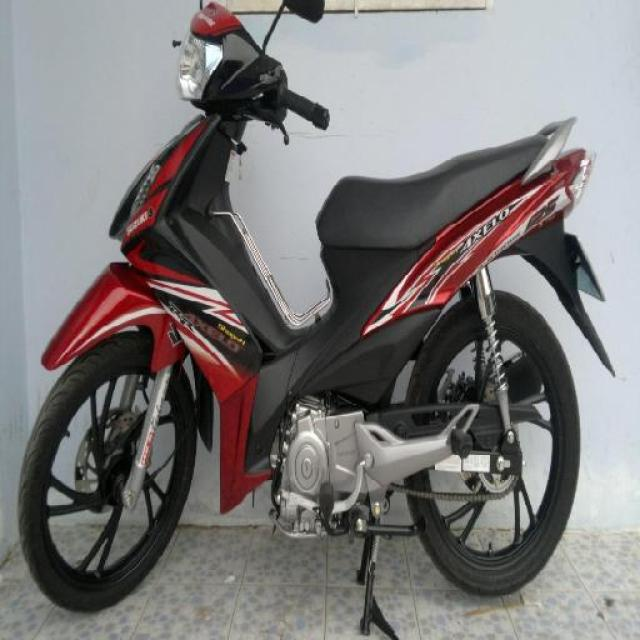All: (12, 4, 620, 613)
Head: (170, 5, 334, 136)
Tail: (500, 111, 598, 212)
